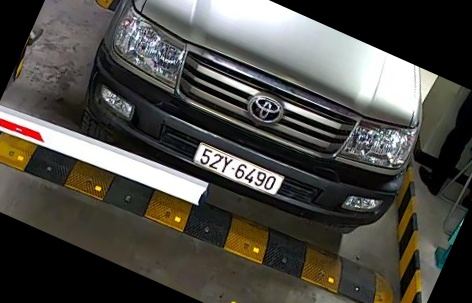plate: (188, 140, 289, 200)
